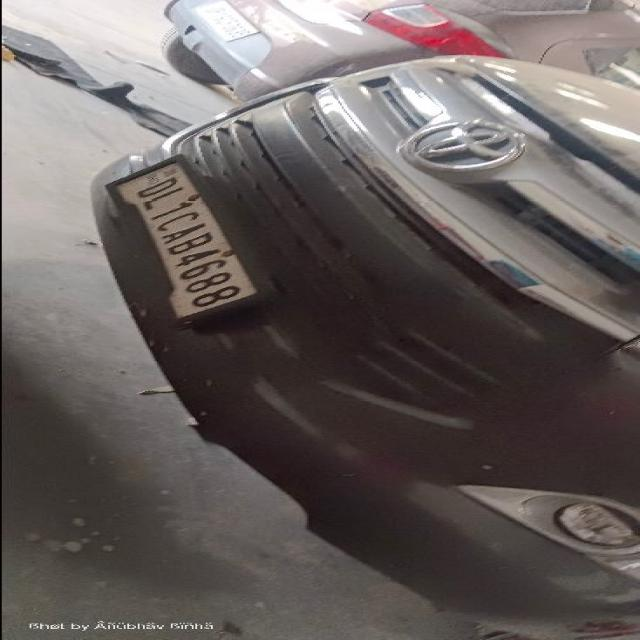license_plate: (89, 52, 636, 623), (99, 151, 272, 324)
